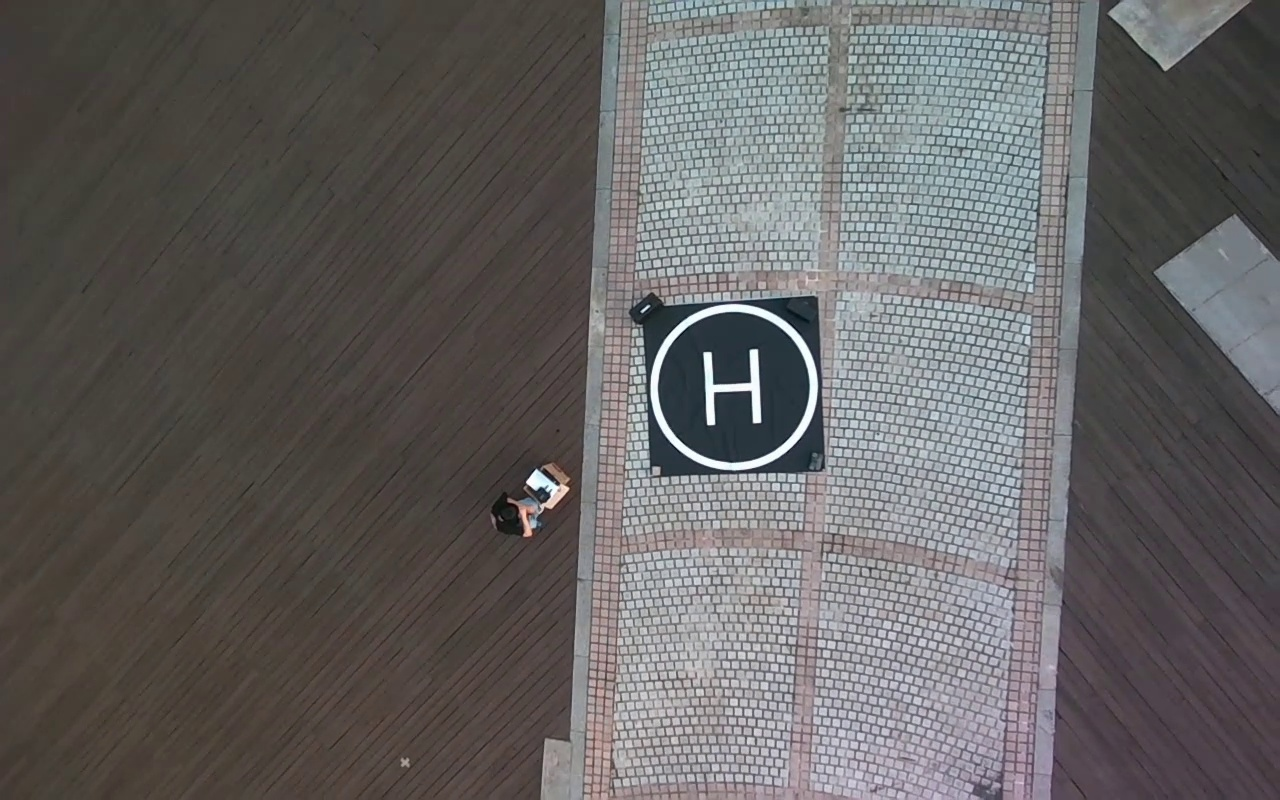H: (699, 349, 765, 425)
heliport: (648, 301, 821, 473)
